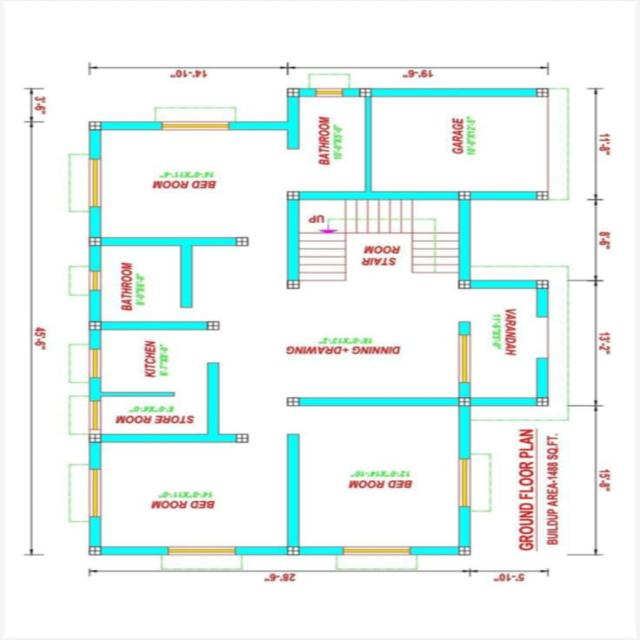column: (526, 185, 558, 208), (78, 232, 108, 252), (276, 186, 306, 206), (82, 116, 108, 138), (230, 233, 256, 253), (279, 84, 307, 102), (80, 428, 106, 447), (81, 540, 108, 558), (452, 187, 479, 205), (528, 276, 554, 294), (530, 84, 556, 102), (452, 276, 477, 294), (354, 84, 379, 102), (278, 276, 306, 292), (453, 394, 477, 412), (280, 392, 304, 410), (452, 543, 476, 559), (280, 542, 304, 558), (532, 393, 556, 409), (230, 429, 252, 446), (203, 317, 226, 333), (87, 316, 107, 334)
